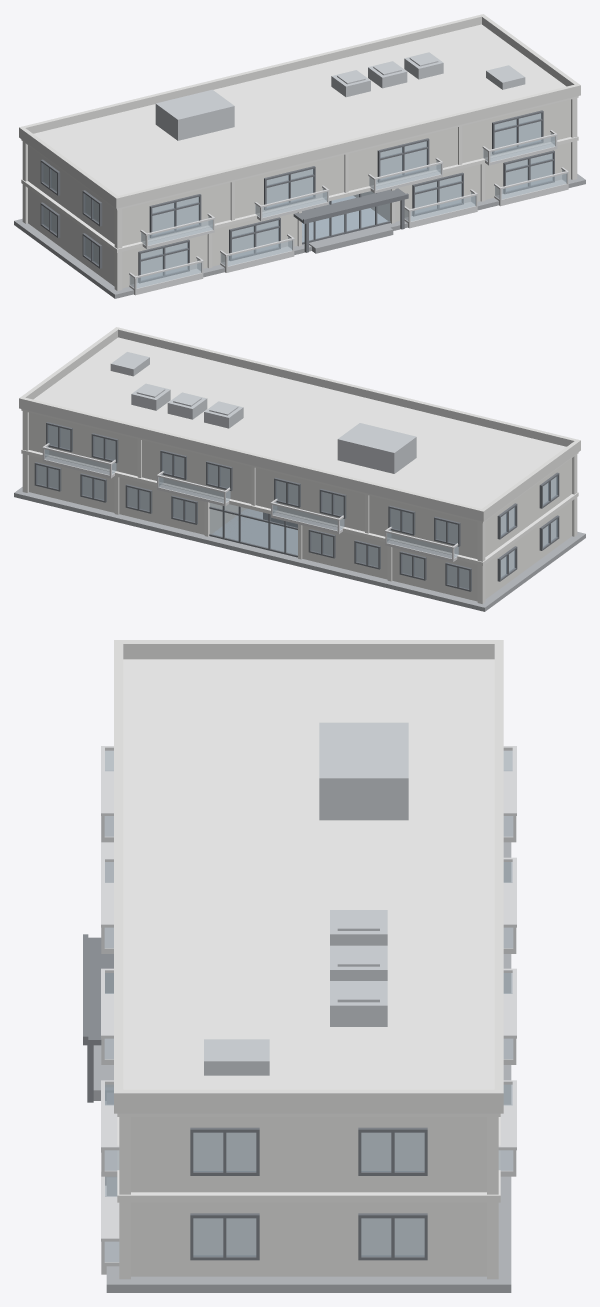
The model's file is harbor_point_hotel_2f_5r.glb.
The picture shows the model from 3 angles, top to bottom: view 1: azimuth 30°, elevation 25°; view 2: azimuth 150°, elevation 25°; view 3: azimuth 270°, elevation 25°; orthographic projection. The views are drawn at different scales.
Visible parts, largest first — view 1: Slabs, Parapet, Windows, room_201, Balconies, Window_Frames, room_202, Balcony_Glass, Roof_Plant, room_101, Plinth, room_103 (+3 smaller); view 2: Slabs, Parapet, room_201, Window_Frames, Windows, Plinth, room_202, Roof_Plant, room_101, room_103, Balconies, Balcony_Glass (+2 smaller); view 3: Slabs, Parapet, room_202, room_103, Roof_Plant, Balconies, Plinth, Windows, Window_Frames, Balcony_Glass, Canopy.
Boxes of the visible parts, box(x1,y1,x2,y2) form: Slabs: box(21, 24, 578, 290); Parapet: box(19, 14, 580, 208); Windows: box(42, 113, 552, 280); room_201: box(28, 145, 344, 246); Balconies: box(129, 130, 568, 295); Window_Frames: box(40, 110, 554, 283); room_202: box(348, 99, 570, 190); Balcony_Glass: box(129, 133, 566, 288); Roof_Plant: box(155, 52, 525, 140); room_101: box(28, 188, 207, 288); Plinth: box(14, 174, 585, 298); room_103: box(395, 142, 570, 221); Slabs: box(21, 337, 578, 603); Parapet: box(19, 327, 580, 521); room_201: box(255, 458, 571, 559); Window_Frames: box(34, 422, 559, 591); Windows: box(36, 425, 557, 589); Plinth: box(14, 487, 585, 611); room_202: box(29, 412, 251, 503); Roof_Plant: box(110, 352, 416, 473); room_101: box(392, 501, 571, 601); room_103: box(29, 455, 204, 534); Balconies: box(42, 443, 458, 561); Balcony_Glass: box(44, 446, 458, 558); Slabs: box(117, 659, 500, 1279); Parapet: box(114, 640, 503, 1113); room_202: box(131, 1117, 486, 1192); room_103: box(131, 1202, 486, 1276); Roof_Plant: box(204, 722, 408, 1075); Balconies: box(101, 746, 516, 1274); Plinth: box(93, 842, 511, 1292); Windows: box(193, 1132, 424, 1256); Window_Frames: box(190, 1127, 427, 1260); Balcony_Glass: box(104, 750, 513, 1261); Canopy: box(83, 934, 113, 1102).
Size of the model in its own units: 4.14 by 0.94 by 1.65.
